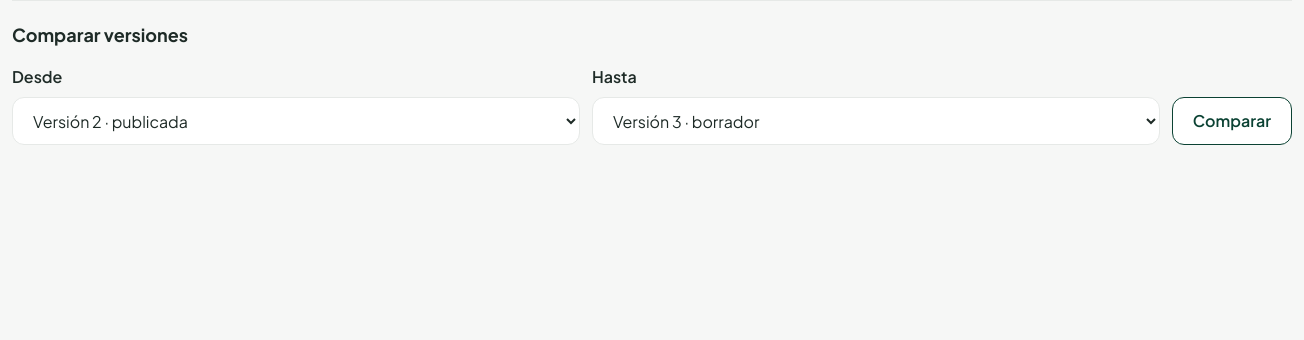
CompareVersions (spec 015, R10) › asks the API for the two chosen versions and shows the result
Select "Versión 1 · reemplazada" in the dropdown labelled "Desde" at (296, 121), box [12, 97, 580, 145]
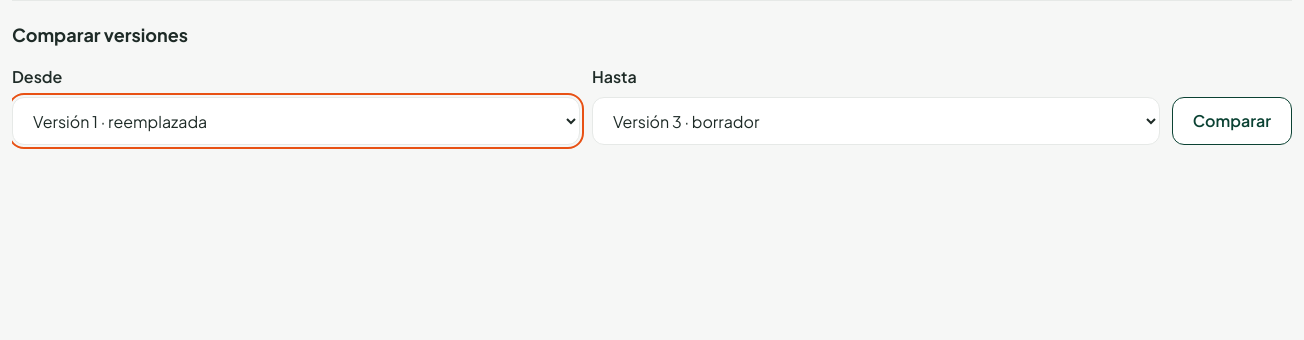
Click the button "Comparar" at (1232, 121), box [1172, 97, 1292, 145]
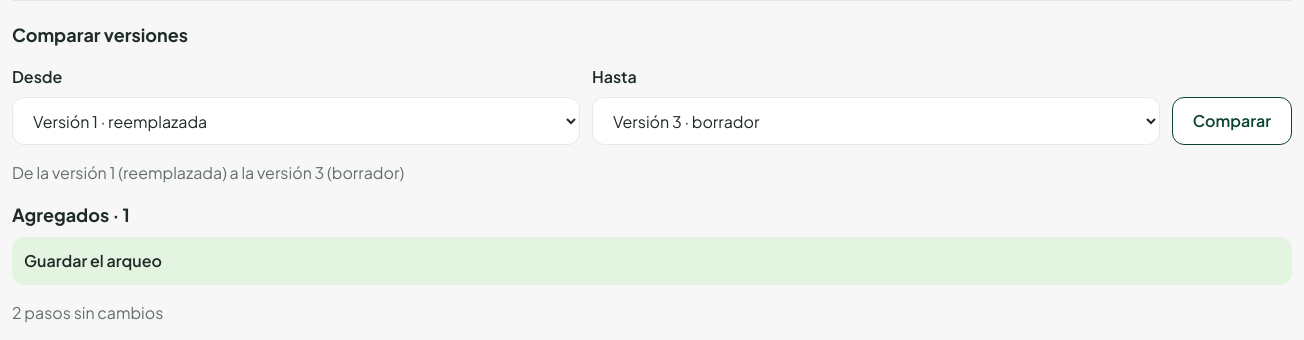
Now the text "Guardar el arqueo" is shown, box [24, 250, 162, 271]
